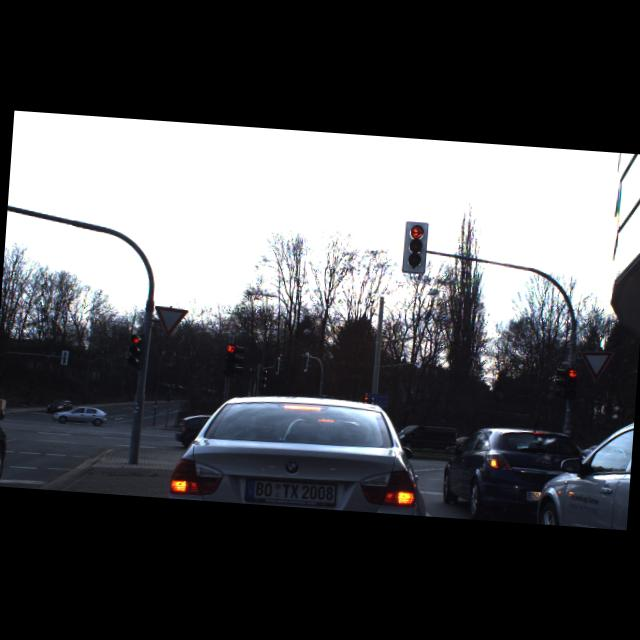other: (151, 305, 188, 338), (578, 349, 613, 382)
